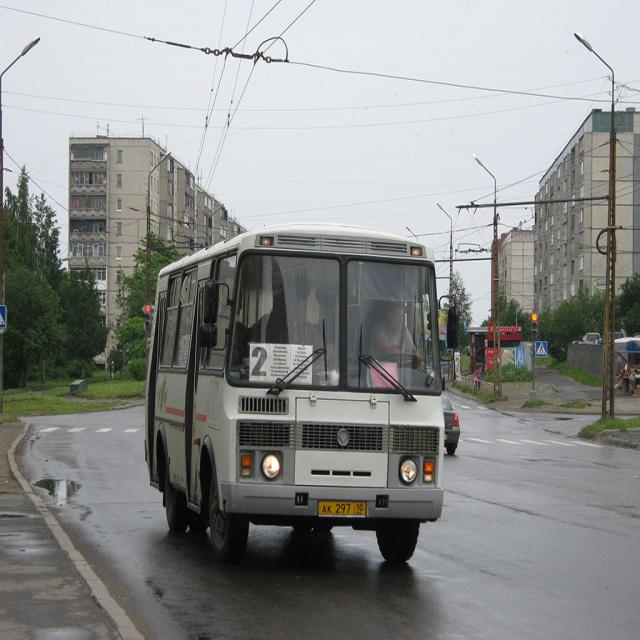number-of-bus: (250, 343, 270, 381)
